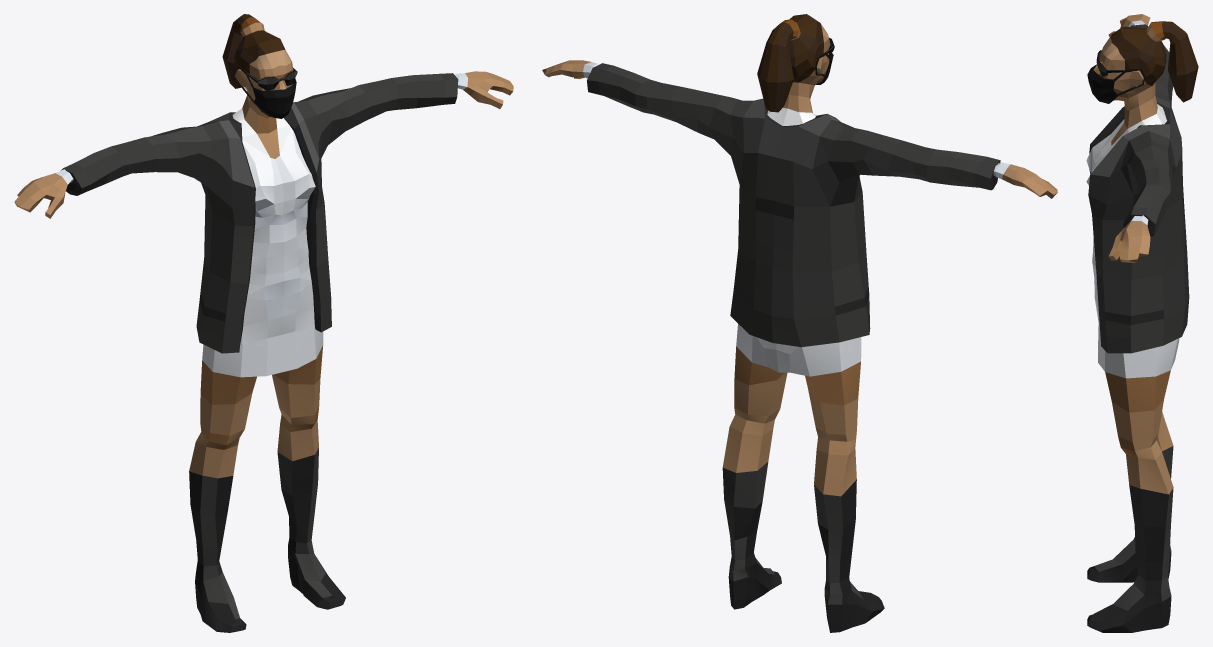
Rendered from casual_Female_J-model.obj.
3 renders of one model, left to right at view 1: azimuth 30°, elevation 25°; view 2: azimuth 150°, elevation 25°; view 3: azimuth 270°, elevation 25°, orthographic. The views are drawn at different scales.
Visible parts, largest first — view 1: casual_Female_J, acc_coat, acc_mask_black; view 2: acc_coat, casual_Female_J; view 3: casual_Female_J, acc_coat, acc_mask_black.
Boxes of the visible parts, x1,y1,x2,y2 form: casual_Female_J: (14,14,513,632); acc_coat: (61,73,458,353); acc_mask_black: (237,66,296,118); acc_coat: (587,63,1000,347); casual_Female_J: (542,14,1057,632); casual_Female_J: (1086,14,1198,632); acc_coat: (1088,24,1189,353); acc_mask_black: (1087,64,1145,103).
Bounding box in the file's own units: 154 × 172 × 30.05.
